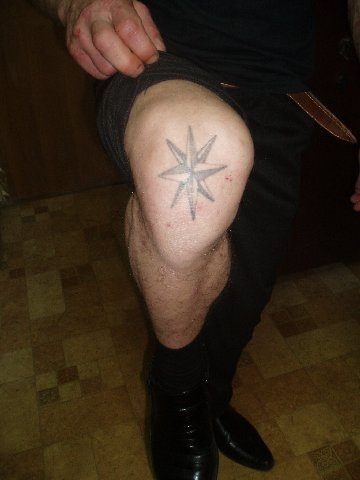tatu4_zvezda: (153, 123, 234, 226)
